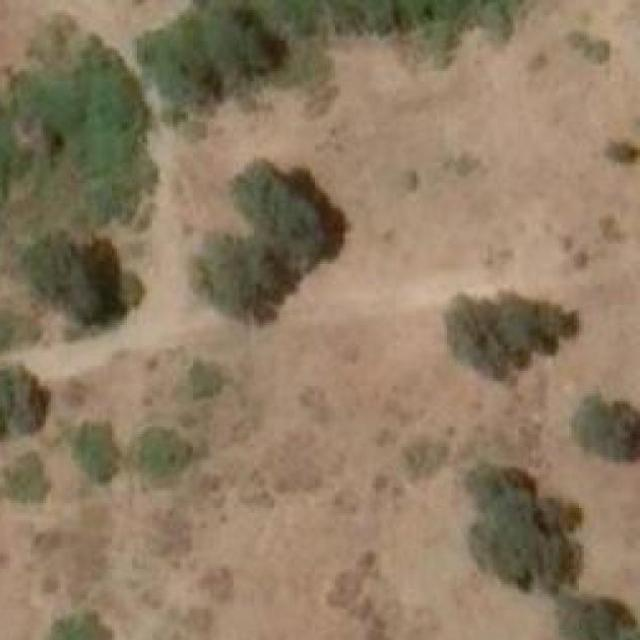Tree: (474, 493, 590, 592), (444, 292, 566, 379), (239, 163, 338, 264), (192, 236, 286, 325), (40, 236, 124, 325), (577, 388, 640, 466), (0, 360, 44, 444), (0, 447, 59, 506), (68, 422, 117, 482), (566, 594, 625, 640), (134, 427, 185, 478), (46, 609, 117, 640), (603, 140, 637, 166)
